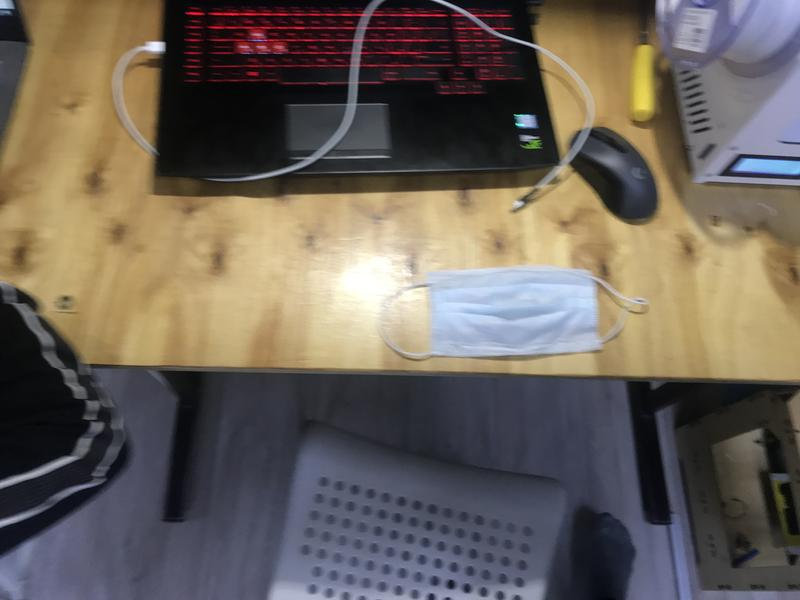medical_mask: (381, 268, 649, 363)
